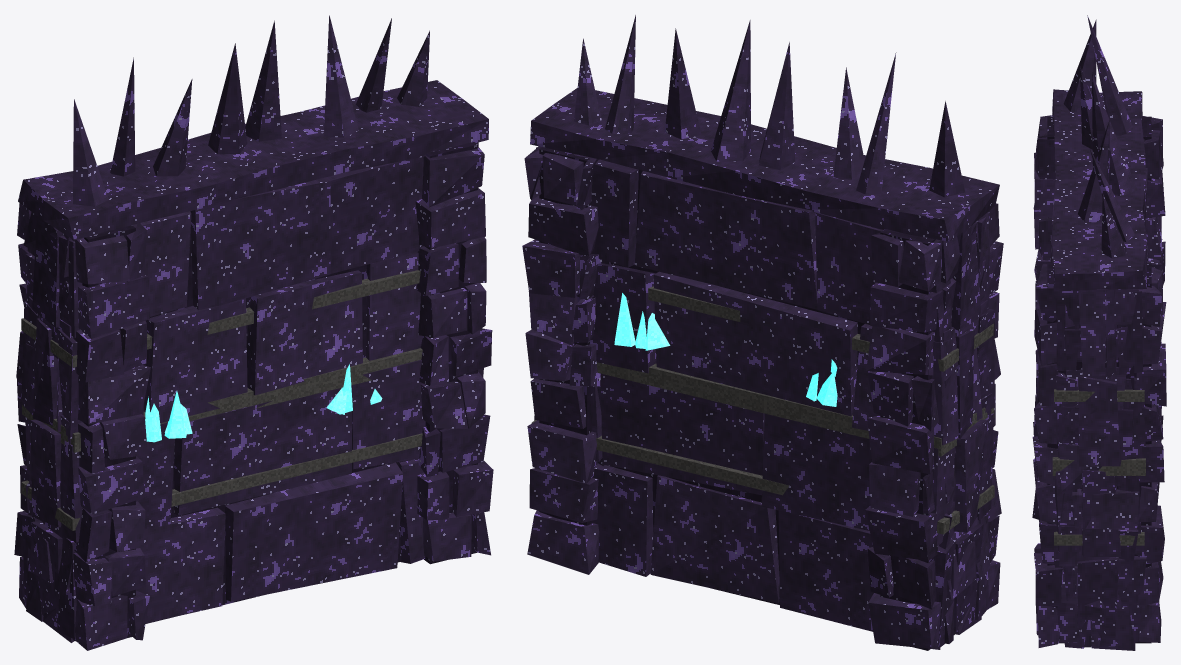
The model's file is muro_obsidiana_grande.glb.
3 renders of one model, left to right at view 1: azimuth 30°, elevation 25°; view 2: azimuth 150°, elevation 25°; view 3: azimuth 270°, elevation 25°, orthographic. The views are drawn at different scales.
Parts seen in each view (by area): view 1: muro_obsidiana_grande_obsidiana, muro_obsidiana_grande_ferro, muro_obsidiana_grande_cristal; view 2: muro_obsidiana_grande_obsidiana, muro_obsidiana_grande_ferro, muro_obsidiana_grande_cristal; view 3: muro_obsidiana_grande_obsidiana, muro_obsidiana_grande_ferro.
Part boxes in pixels (x1=…): muro_obsidiana_grande_obsidiana: x1=14, y1=15, x2=493, y2=650; muro_obsidiana_grande_ferro: x1=21, y1=270, x2=422, y2=530; muro_obsidiana_grande_cristal: x1=145, y1=364, x2=382, y2=442; muro_obsidiana_grande_obsidiana: x1=522, y1=15, x2=1003, y2=650; muro_obsidiana_grande_ferro: x1=531, y1=286, x2=994, y2=534; muro_obsidiana_grande_cristal: x1=614, y1=293, x2=837, y2=406; muro_obsidiana_grande_obsidiana: x1=1032, y1=15, x2=1166, y2=650; muro_obsidiana_grande_ferro: x1=1052, y1=389, x2=1145, y2=545.
Size of the model in its own units: 6.2 by 7.83 by 1.93.
3 materials, 3 textured.
